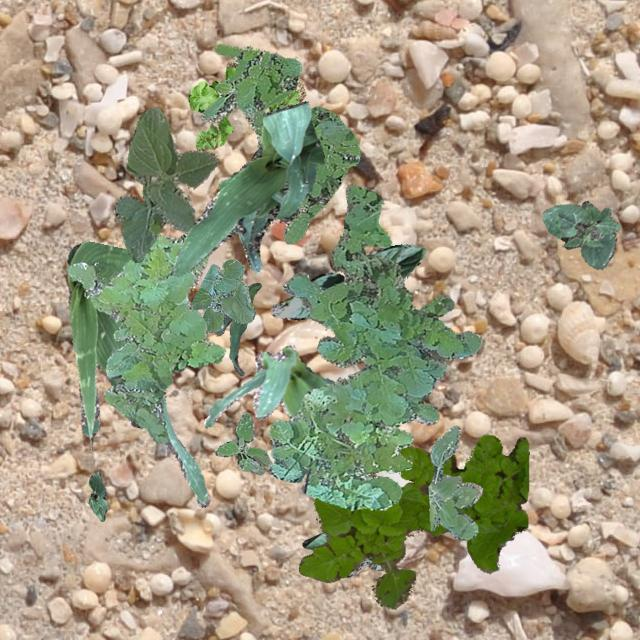crop: (66, 239, 208, 506), (172, 100, 324, 276), (204, 343, 334, 492), (114, 106, 216, 262), (270, 242, 424, 318), (542, 200, 620, 268), (190, 258, 254, 332), (216, 282, 260, 374), (302, 532, 384, 576), (218, 172, 240, 240), (88, 470, 106, 520)
weed: (268, 183, 482, 510), (297, 433, 528, 608), (66, 232, 225, 442), (200, 44, 358, 242), (188, 61, 304, 150), (428, 424, 482, 540), (213, 412, 270, 474)
